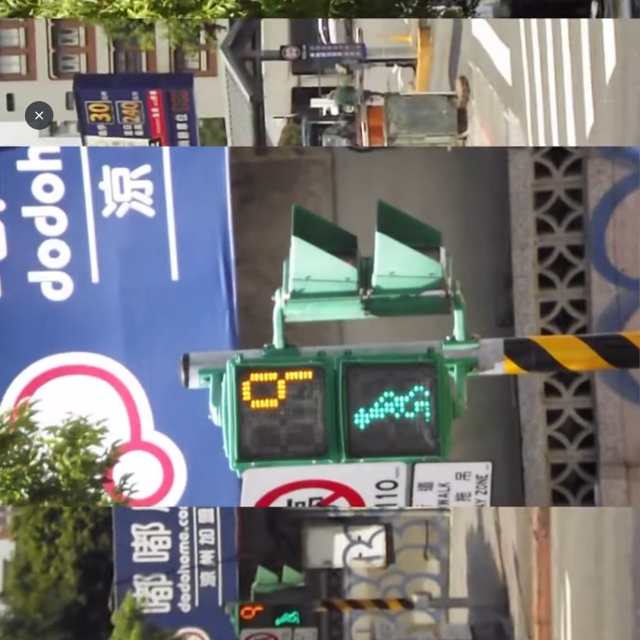green_light: (228, 363, 448, 460), (237, 605, 309, 628)
